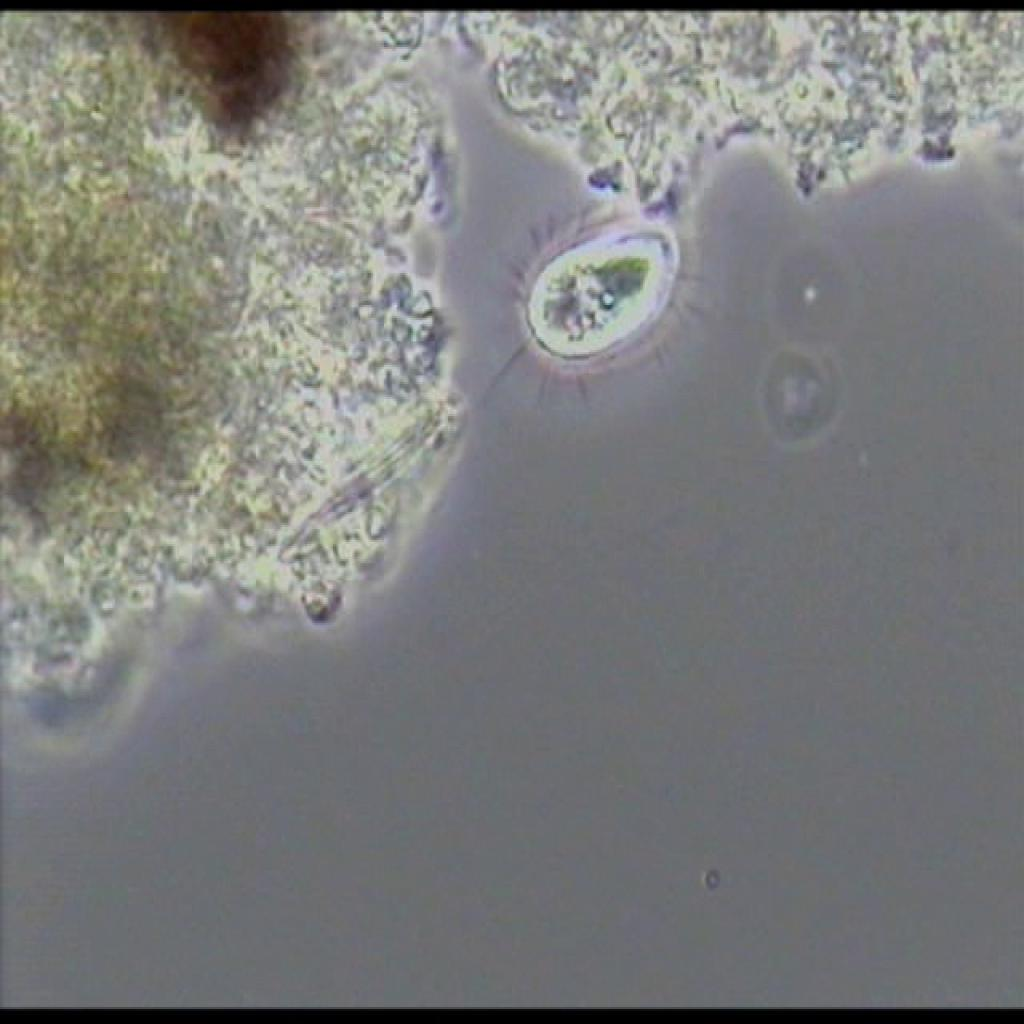Cyclidium: (502, 193, 722, 400)
